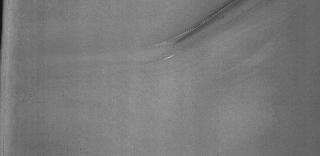scratches: (165, 1, 241, 59)
